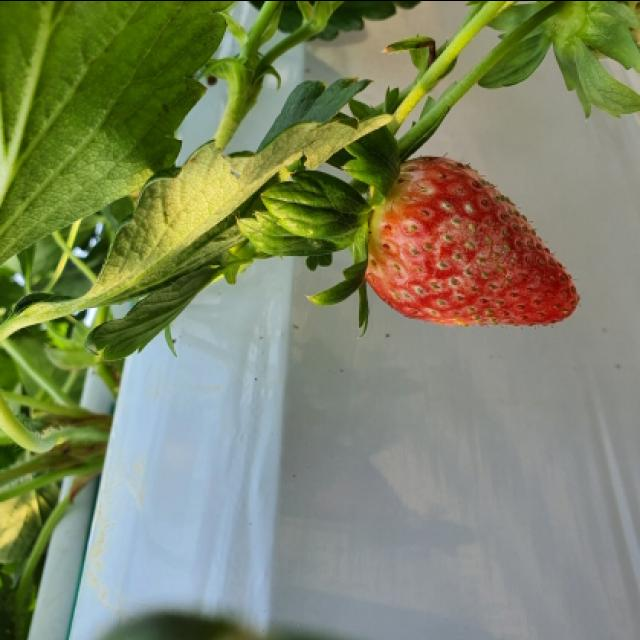Powdery Mildew Fruit: (364, 153, 584, 329)
